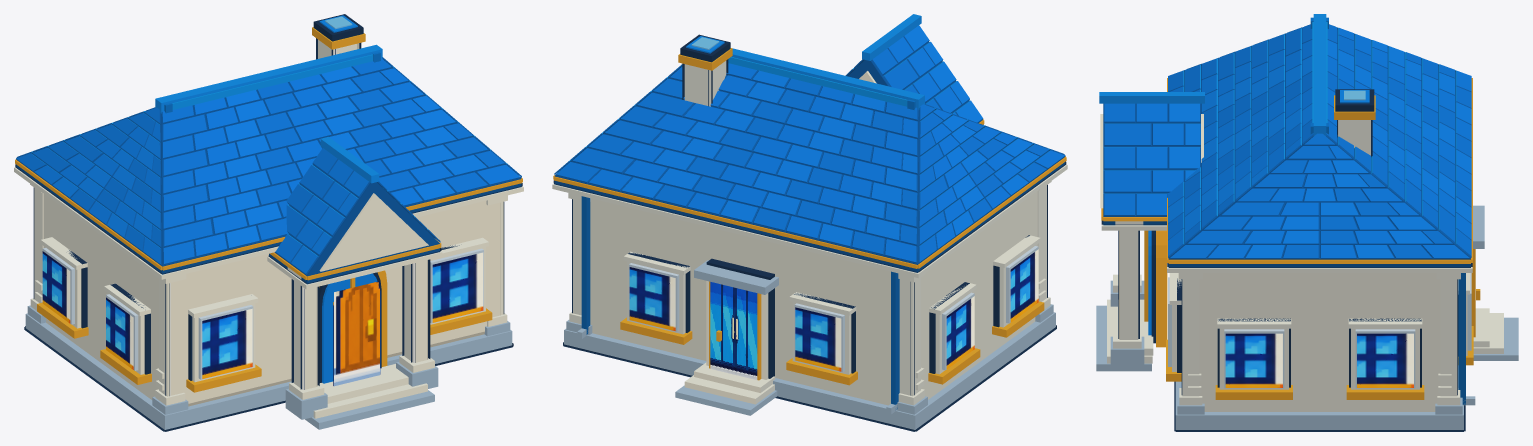
3 renders of one model, left to right at view 1: azimuth 30°, elevation 25°; view 2: azimuth 150°, elevation 25°; view 3: azimuth 270°, elevation 25°, orthographic. The views are drawn at different scales.
Parts seen in each view (by area): view 1: H01 蓝顶门廊屋; view 2: H01 蓝顶门廊屋; view 3: H01 蓝顶门廊屋.
Boxes of the visible parts, x1=… form: H01 蓝顶门廊屋: x1=14, y1=14, x2=523, y2=431; H01 蓝顶门廊屋: x1=552, y1=14, x2=1067, y2=431; H01 蓝顶门廊屋: x1=1096, y1=14, x2=1518, y2=431.
Bounding box in the file's own units: 6.84 × 5.08 × 6.65.
2 materials, 1 textured.
